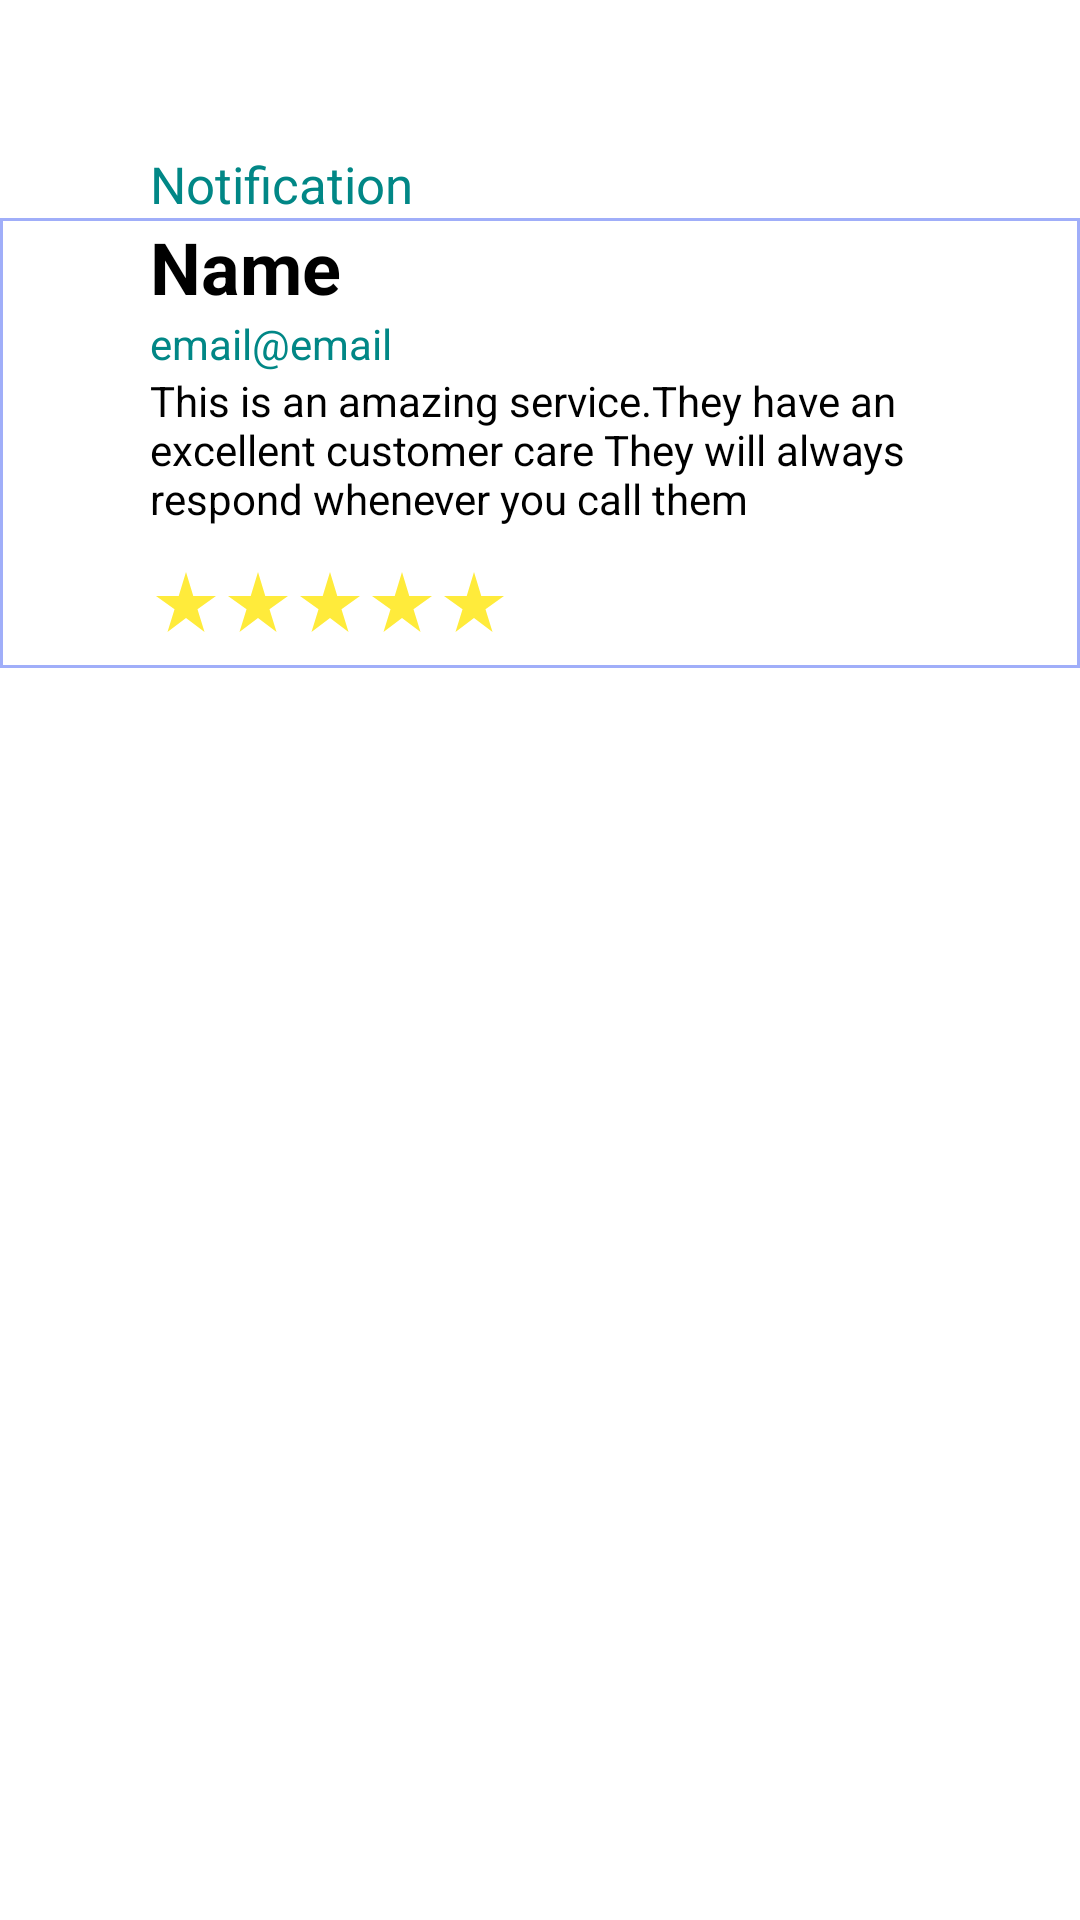

Icon bounding boxes for this 1080x1920 phone screenshot, format (x1, y1, x2, y2):
full star: (156, 572, 216, 632), (228, 572, 288, 632), (300, 572, 360, 632), (372, 572, 432, 632), (444, 572, 504, 632)
